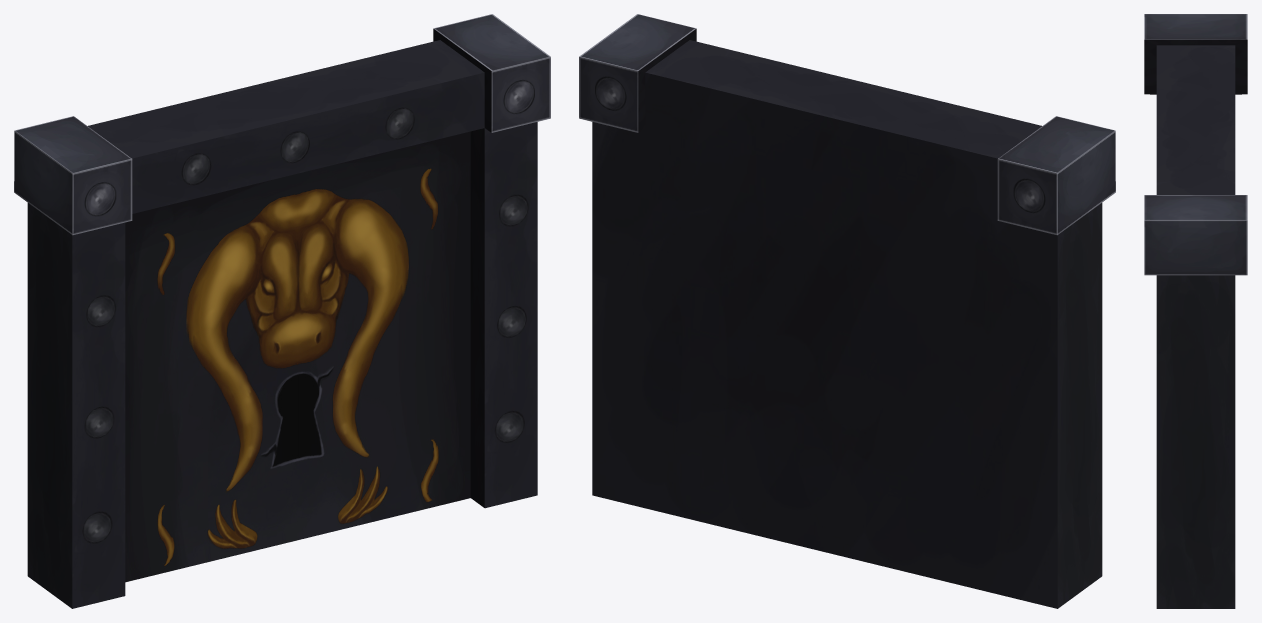
Rendered from boss_door.FBX.
3 renders of one model, left to right at view 1: azimuth 30°, elevation 25°; view 2: azimuth 150°, elevation 25°; view 3: azimuth 270°, elevation 25°, orthographic. The views are drawn at different scales.
Visible parts, largest first — view 1: R_BossDoor, L_BossDoor; view 2: R_BossDoor, L_BossDoor; view 3: L_BossDoor, R_BossDoor.
Part boxes in pixels (<box>): R_BossDoor: <box>14,82,312,608</box>; L_BossDoor: <box>268,14,550,539</box>; R_BossDoor: <box>817,82,1115,608</box>; L_BossDoor: <box>579,14,861,550</box>; L_BossDoor: <box>1144,126,1247,608</box>; R_BossDoor: <box>1144,14,1247,125</box>.
Size of the model in its own units: 451 by 399 by 95.51.
Materials: 1 (1 with a texture image).
